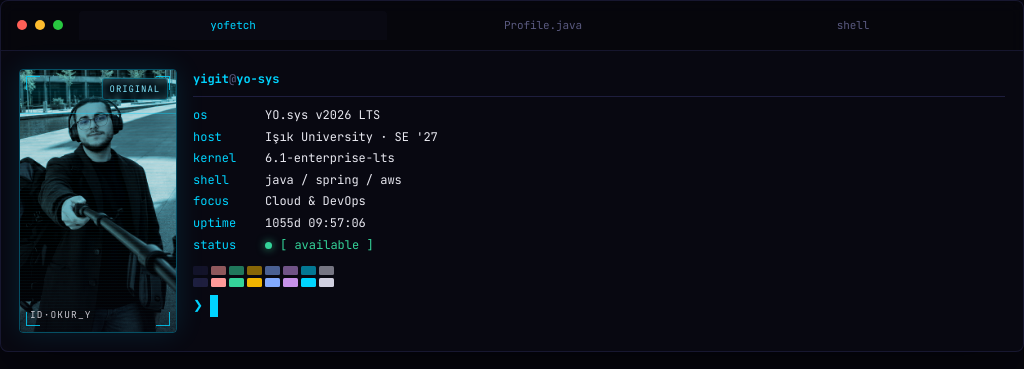
Scenario: SystemTerminal › completes a command from a unique prefix
Click the tab "shell". click: (853, 25)
box: [699,11,1007,40]
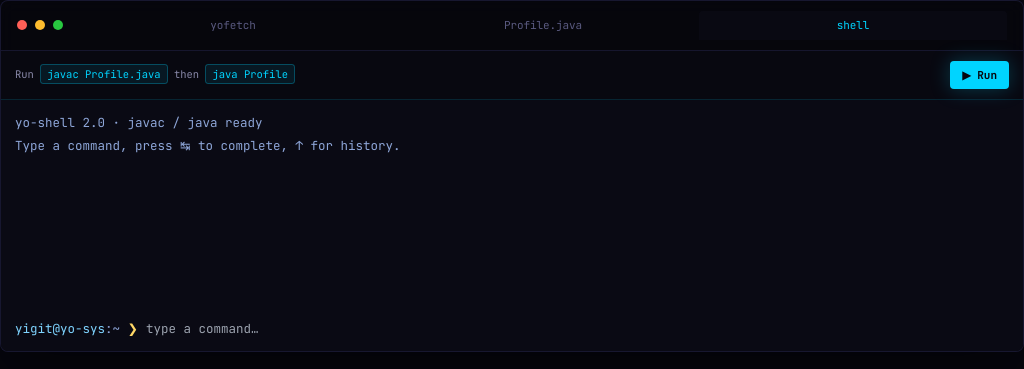
Type "whoa" into the field named "Shell input". click: (578, 329)
box: [146,320,1009,339]
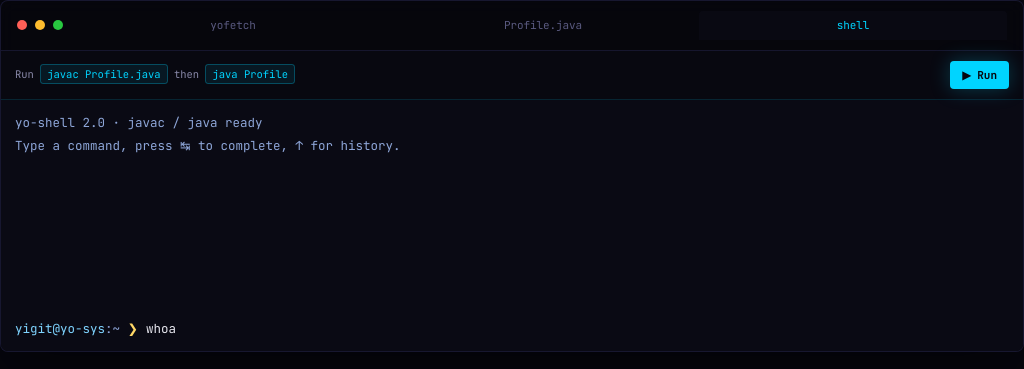
Press Tab in the field named "Shell input", box [146,320,1009,339]
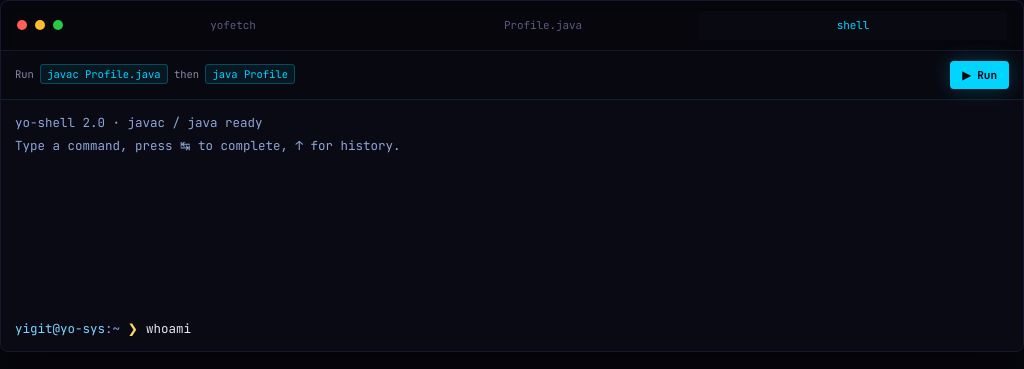
Now the field named "Shell input" holds "whoami", box [146,320,1009,339]
